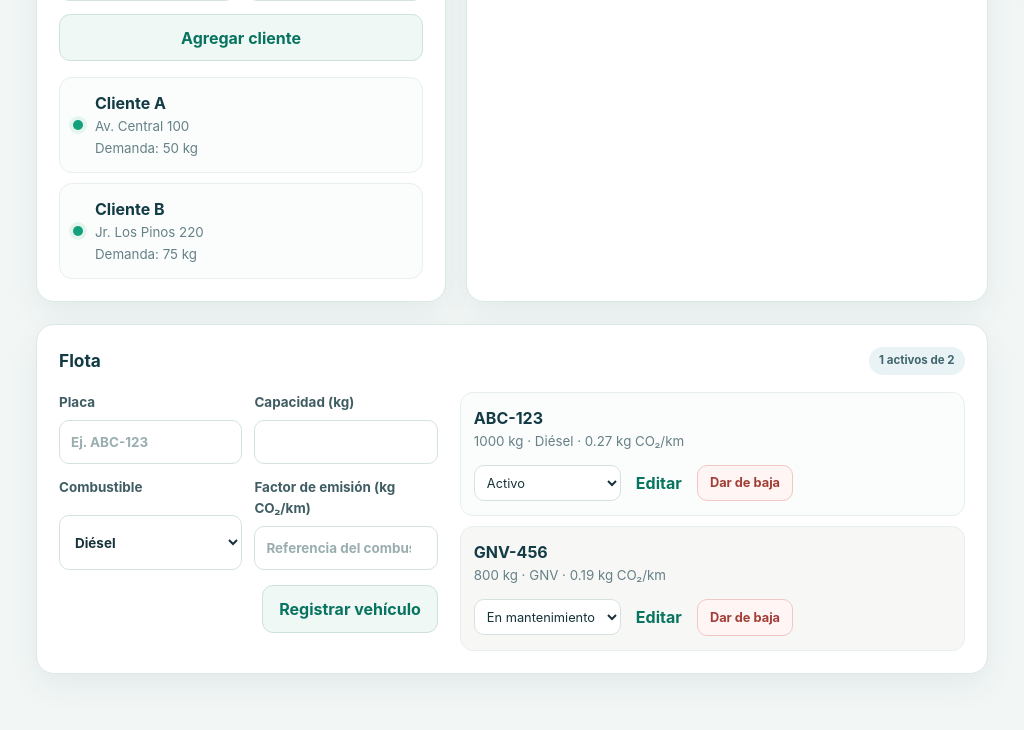
Test: Gestión de flota › edita un vehículo existente
This screenshot has width=1024, height=730.
(page scrolled)
Click the button with aria-label "Editar ABC-123".
click(659, 483)  # box [628,464,690,502]
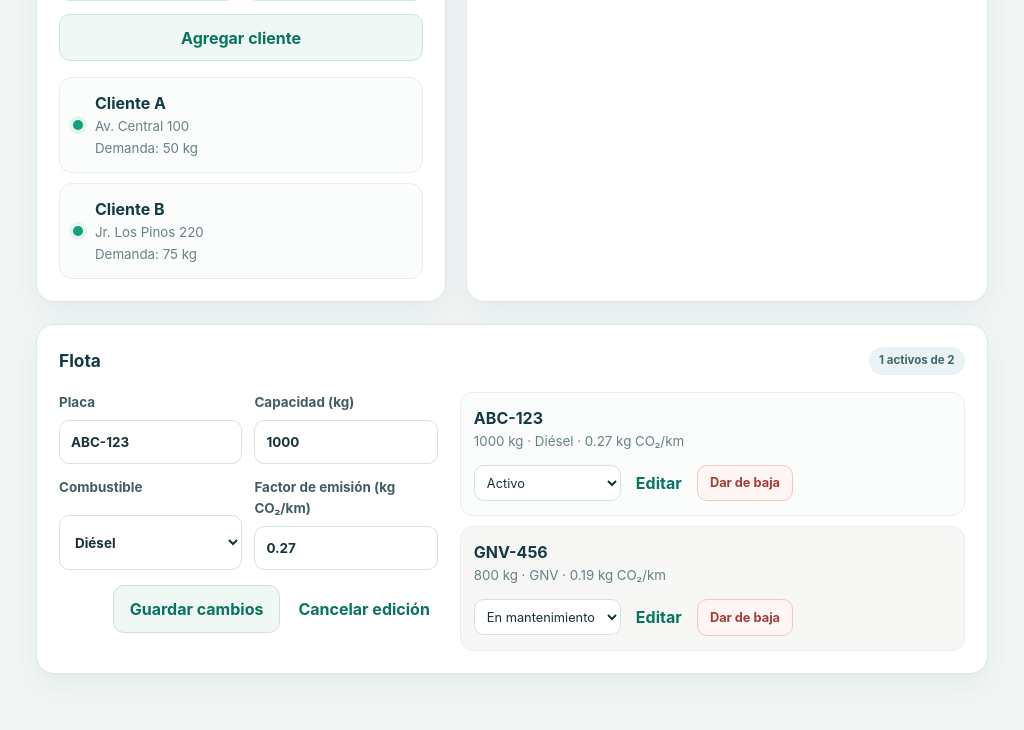
Check: the field labelled "Placa" holds "ABC-123", box [59,420,242,464]
Replace the text in the number field labelled "Capacidad (kg)" with "1500" at (346, 442), box [254,420,438,464]
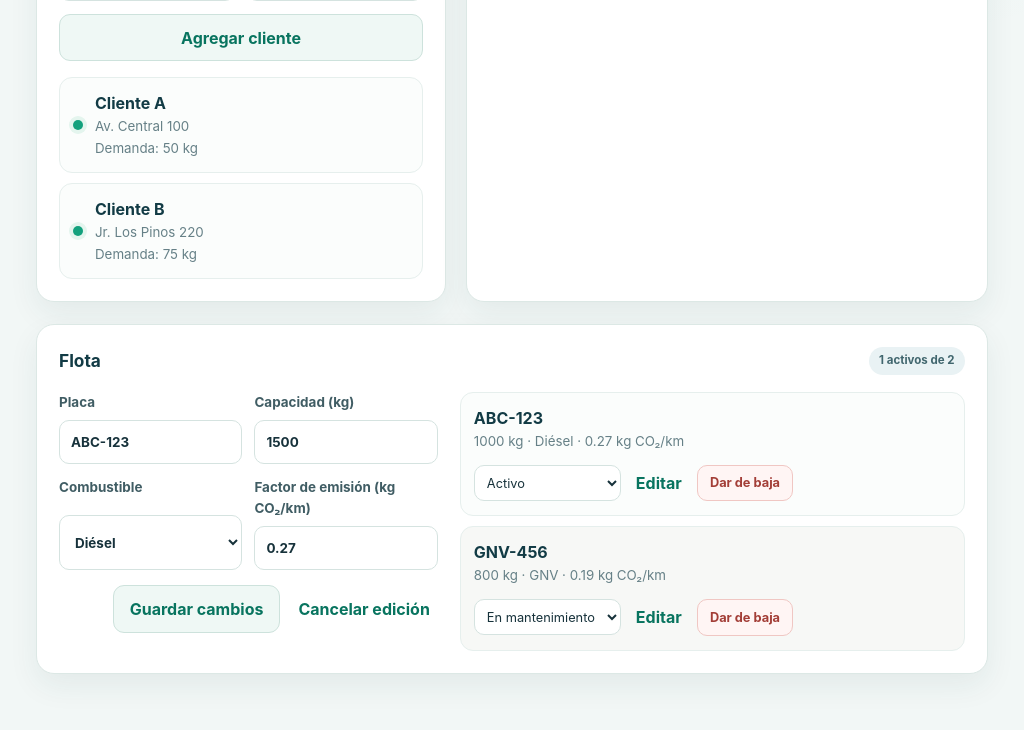
Click the button "Guardar cambios".
click(197, 609)  # box [113,585,280,633]
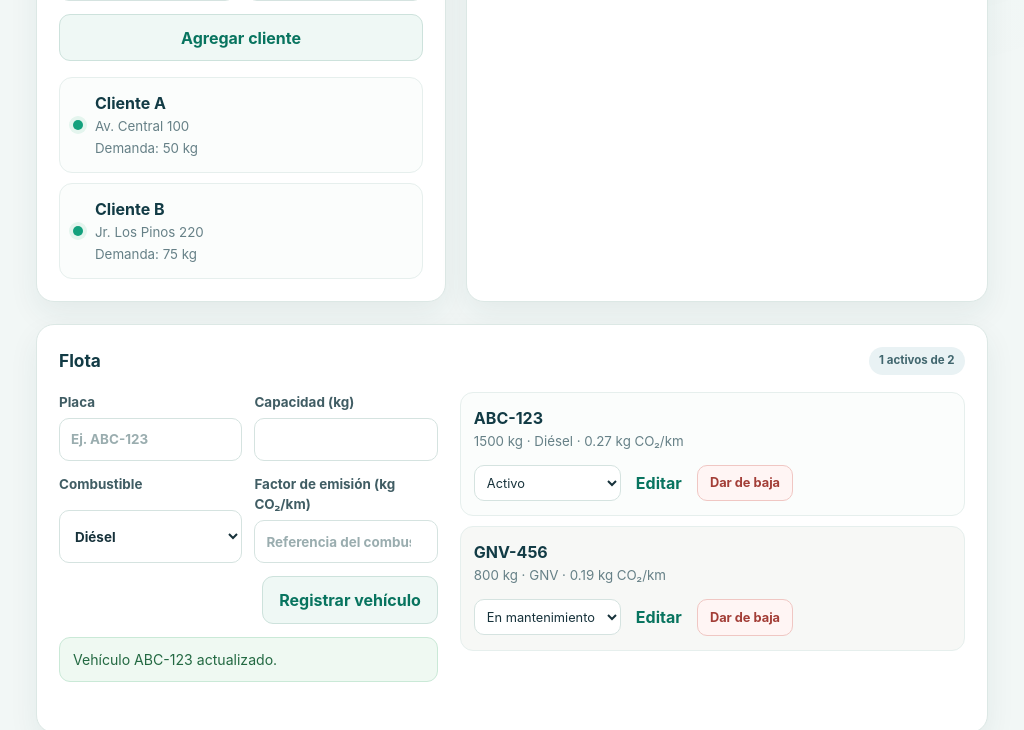
Check: the text "Vehículo ABC-123 actualizado." is shown, box [59,637,438,682]
Check: the text "1500 kg · Diésel · 0.27 kg CO₂/km" is shown, box [474,432,684,452]
Check: the button "Registrar vehículo" is shown, box [262,576,438,624]
